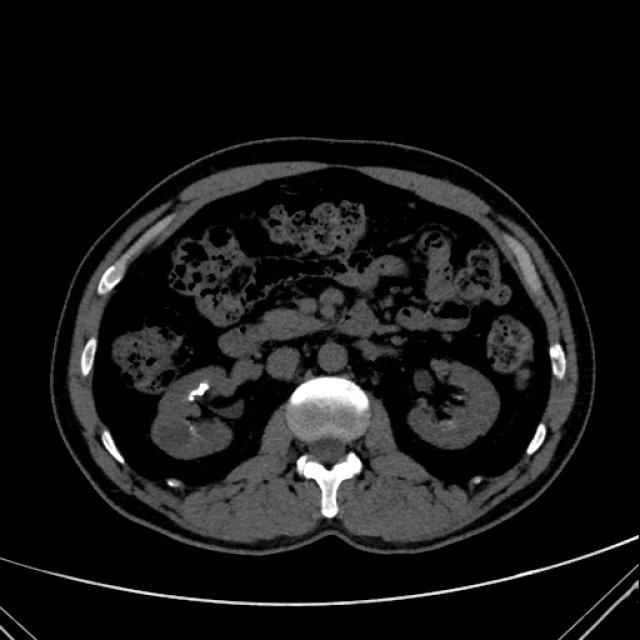kidneystone: (188, 382, 209, 401)
